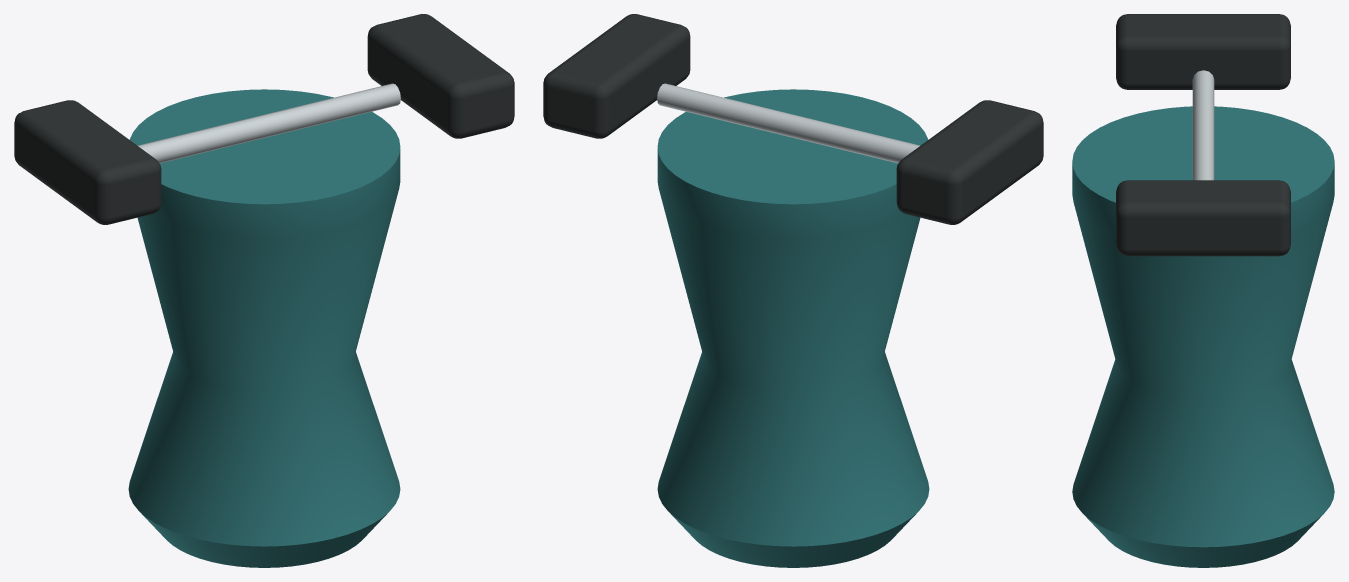
File: tabletop-hobby-store-and-club-model-holding-handle-e4a81aa7__31584.glb
3 views of the same model, side by side, from view 1: azimuth 30°, elevation 25°; view 2: azimuth 150°, elevation 25°; view 3: azimuth 270°, elevation 25° (orthographic). The views are drawn at different scales.
Parts seen in each view (by area): view 1: model-holding-handle; view 2: model-holding-handle; view 3: model-holding-handle.
Boxes of the visible parts, bbox=[...] form: model-holding-handle: bbox=[14, 14, 514, 567]; model-holding-handle: bbox=[543, 14, 1043, 567]; model-holding-handle: bbox=[1072, 14, 1334, 567].
Bounding box in the file's own units: 0.064 × 0.063 × 0.036.
